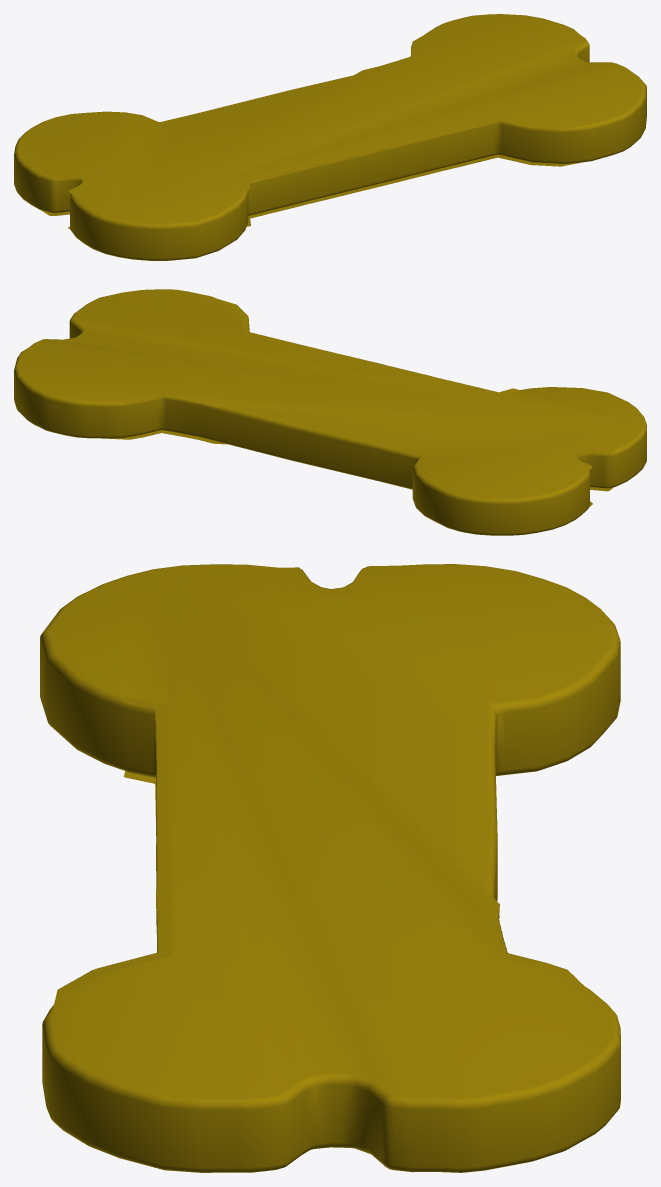
File: Bone.fbx
3 views of the same model, one above another, from view 1: azimuth 30°, elevation 25°; view 2: azimuth 150°, elevation 25°; view 3: azimuth 270°, elevation 25° (orthographic). The views are drawn at different scales.
Visible parts, largest first — view 1: Plane; view 2: Plane; view 3: Plane.
Part boxes in pixels (x1=…): Plane: x1=14, y1=14, x2=646, y2=260; Plane: x1=14, y1=289, x2=646, y2=535; Plane: x1=40, y1=564, x2=620, y2=1172.
Bounding box in the file's own units: 492 × 31.22 × 223.
